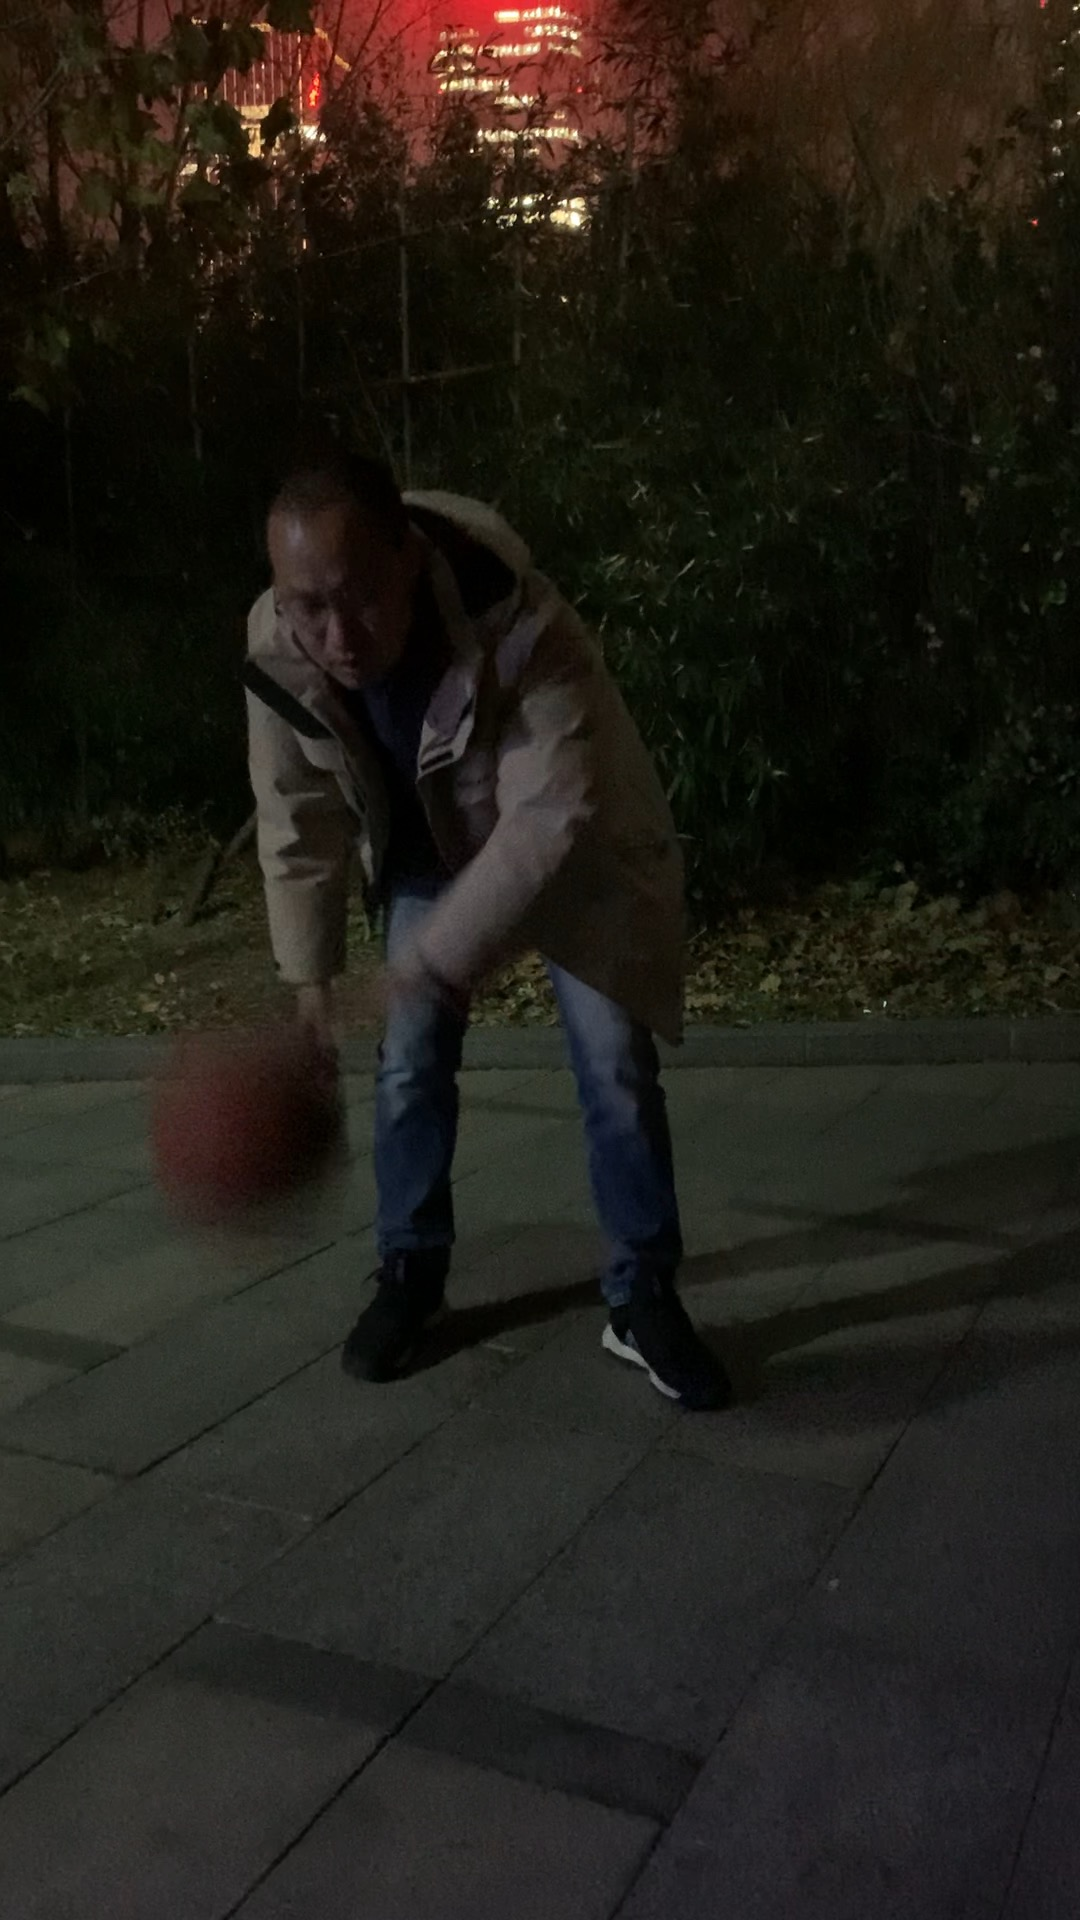ball: (156, 1047, 356, 1240)
